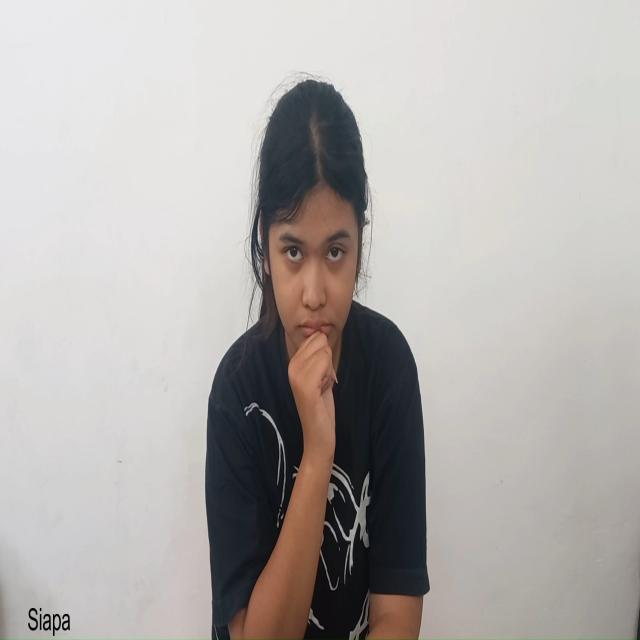Siapa -BISINDO-: (246, 78, 383, 503)
